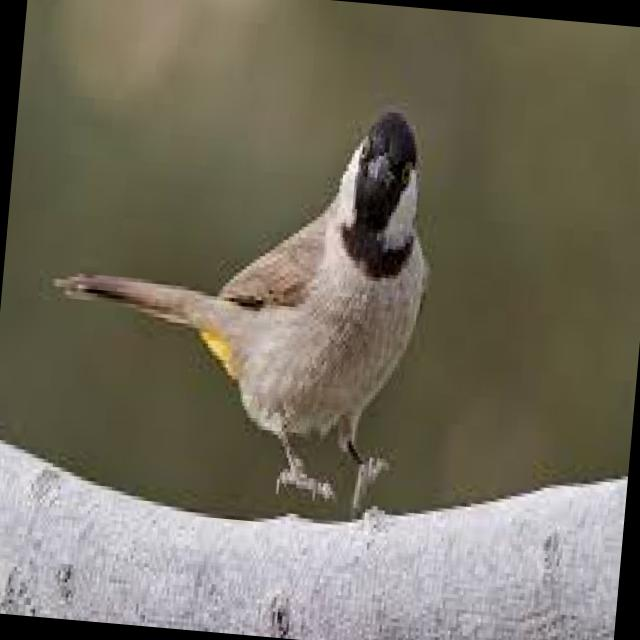bird: (32, 72, 448, 522)
